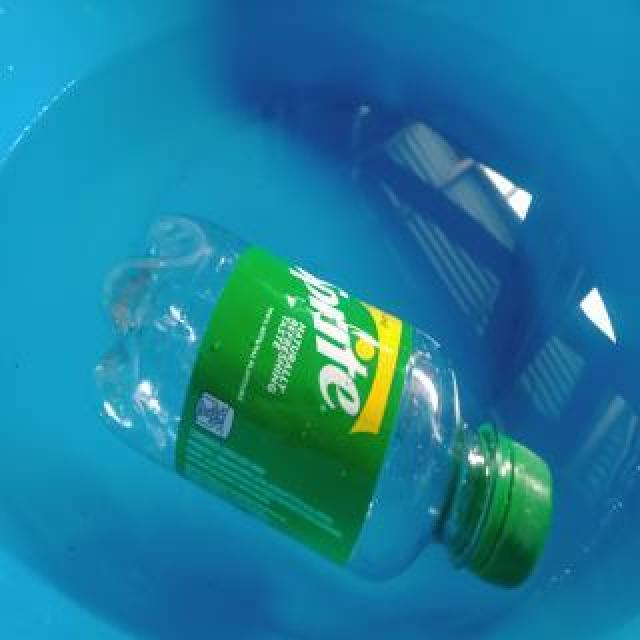bottle: (92, 209, 554, 595)
